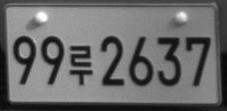2: (99, 34, 125, 86)
3: (157, 36, 181, 86)
6: (127, 36, 154, 86)
7: (185, 36, 211, 86)
9: (39, 34, 65, 84), (12, 34, 37, 84)
루: (68, 44, 93, 86)
